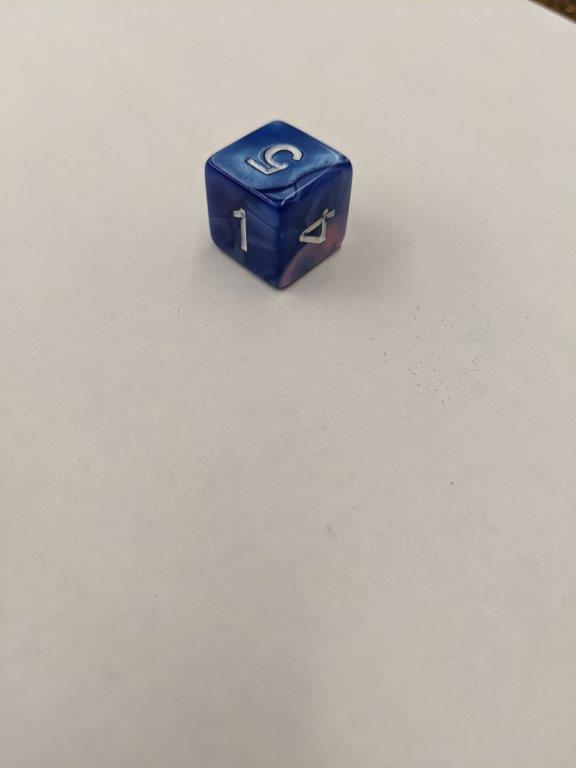d6-5: (205, 118, 351, 289)
